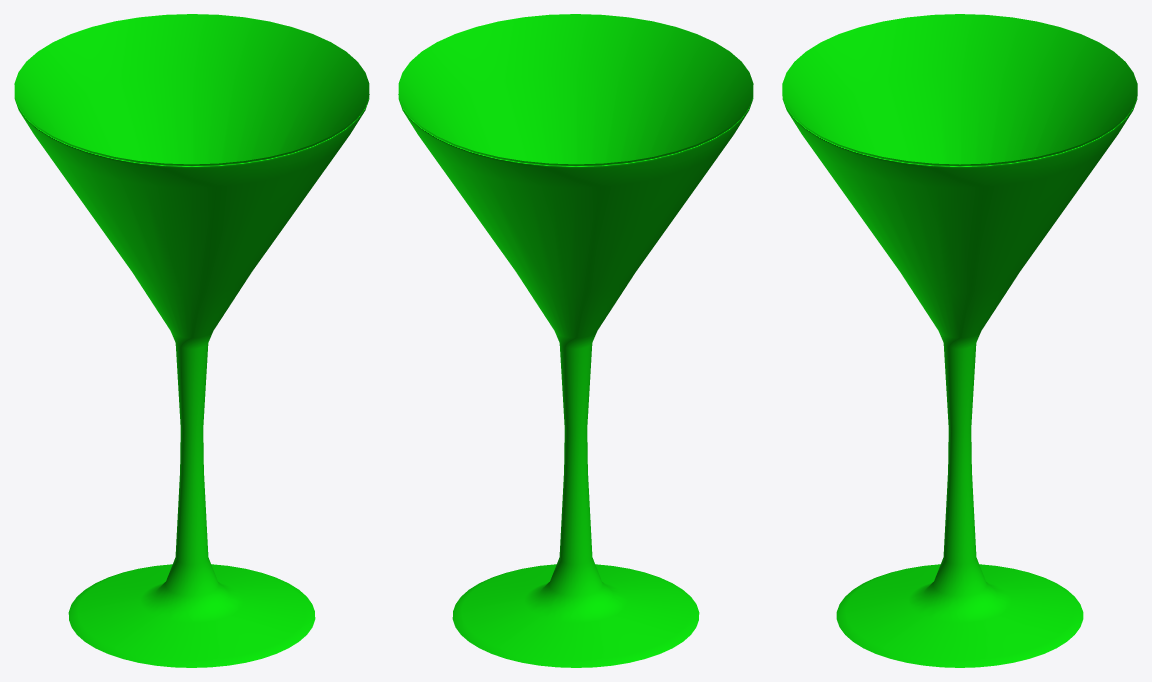
Rendered from Glass4_LOD_2.fbx.
The picture shows the model from 3 angles, left to right: view 1: azimuth 30°, elevation 25°; view 2: azimuth 150°, elevation 25°; view 3: azimuth 270°, elevation 25°; orthographic projection.
Visible parts, largest first — view 1: Glass4_LOD_2; view 2: Glass4_LOD_2; view 3: Glass4_LOD_2.
Part boxes in pixels (box(x1,y1,x2,y2)): Glass4_LOD_2: box(14, 14, 369, 667); Glass4_LOD_2: box(398, 14, 753, 667); Glass4_LOD_2: box(782, 14, 1137, 667).
Bounding box in the file's own units: 3.05 × 4.99 × 3.04.
